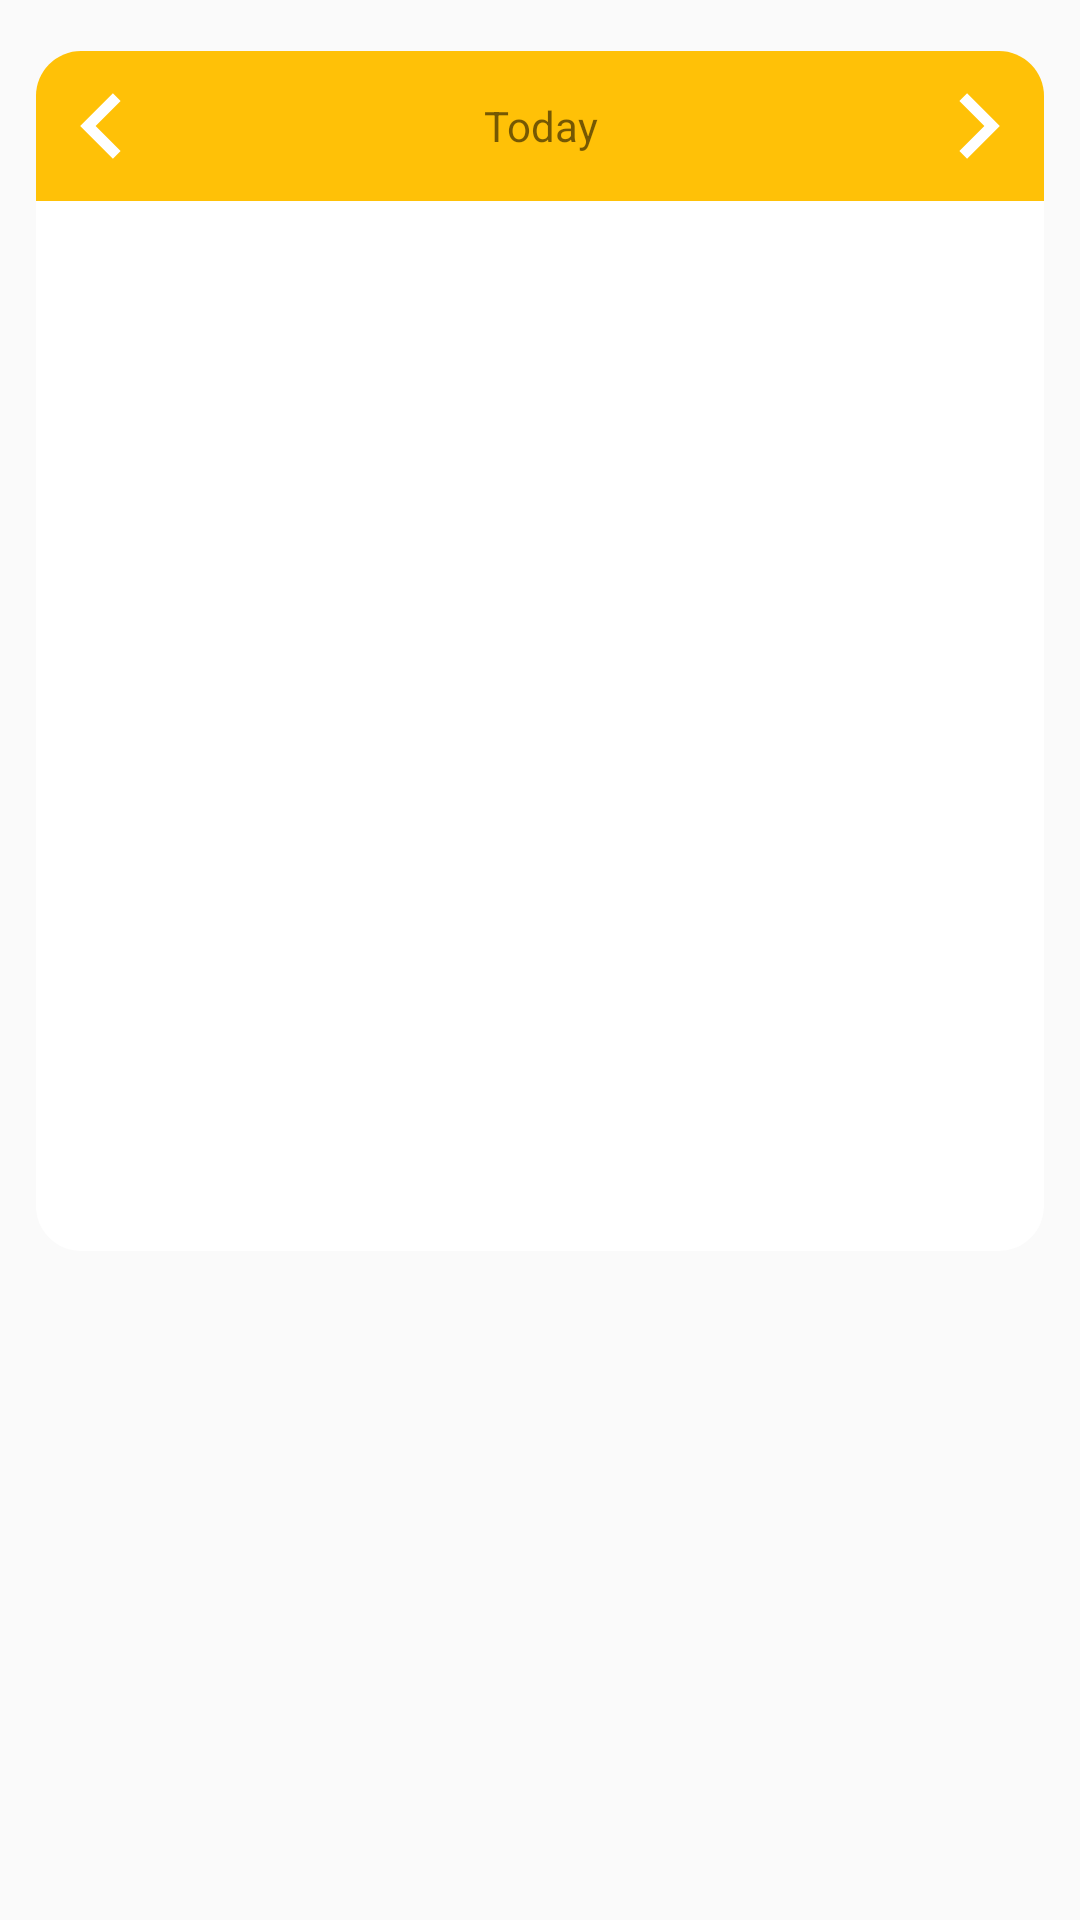

Where to tap for icons on this 1080×1920 app screen, as point (x, y):
next: point (979, 126)
prev: point (100, 126)
